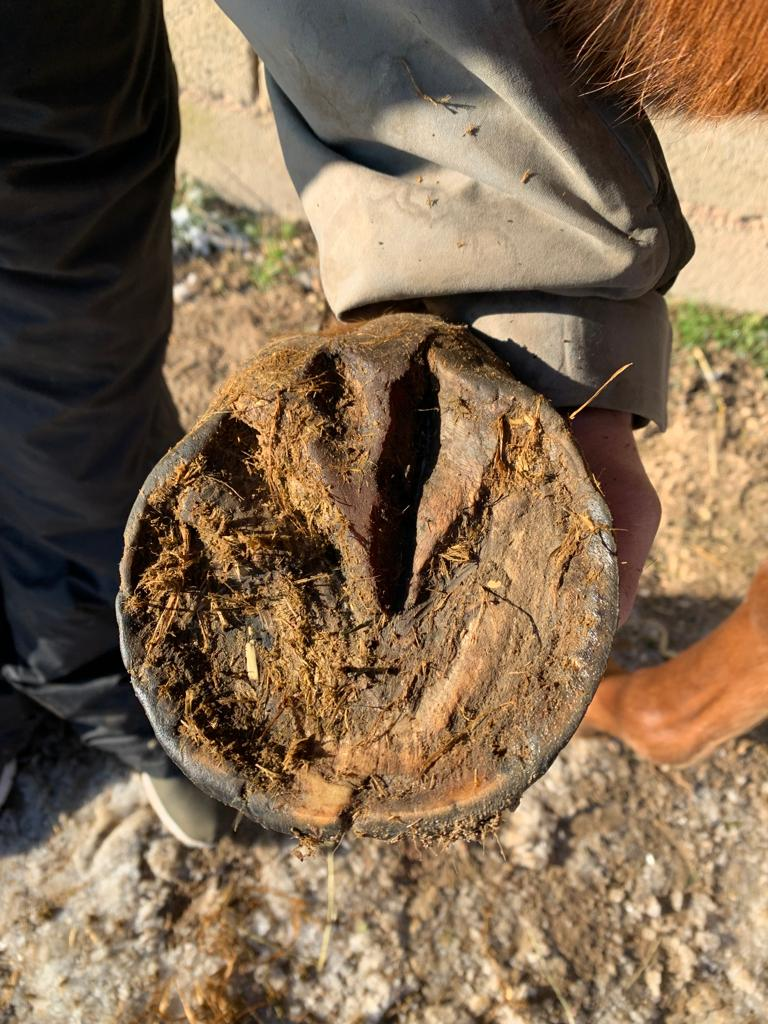horsesole: (117, 350, 620, 842)
